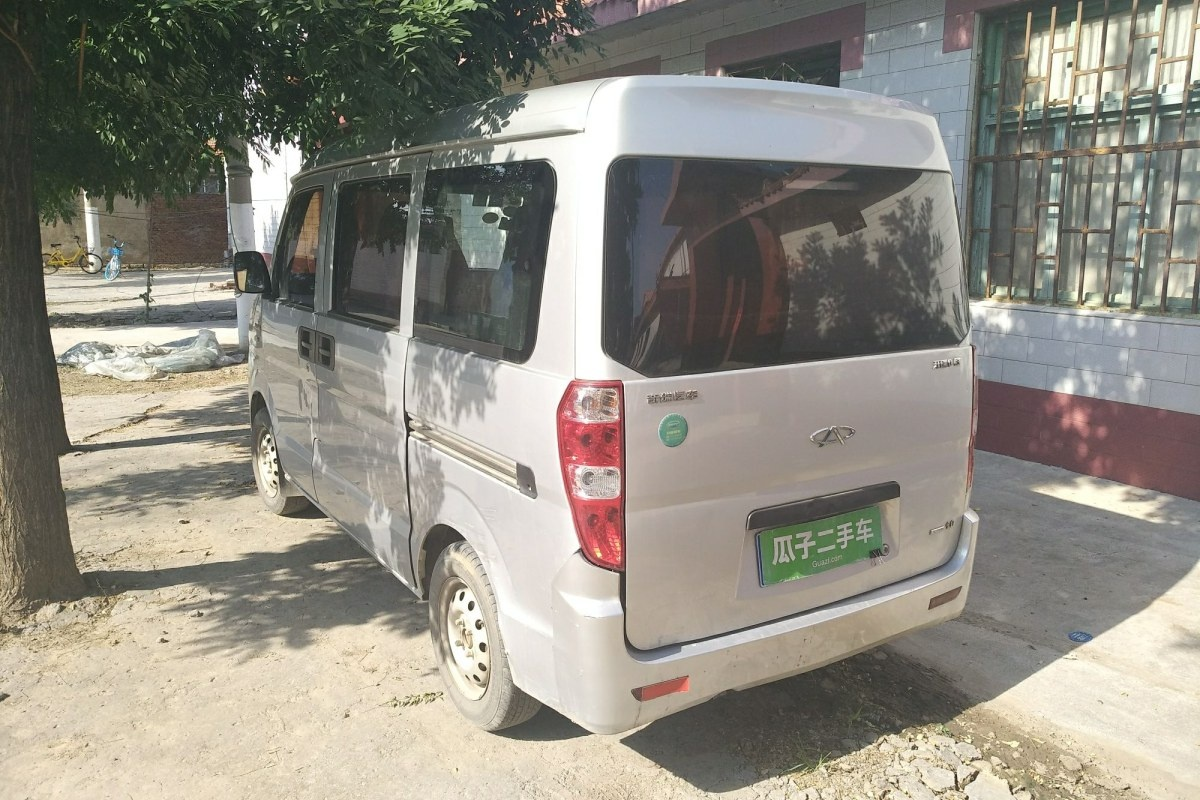minibus: (198, 90, 979, 734)
